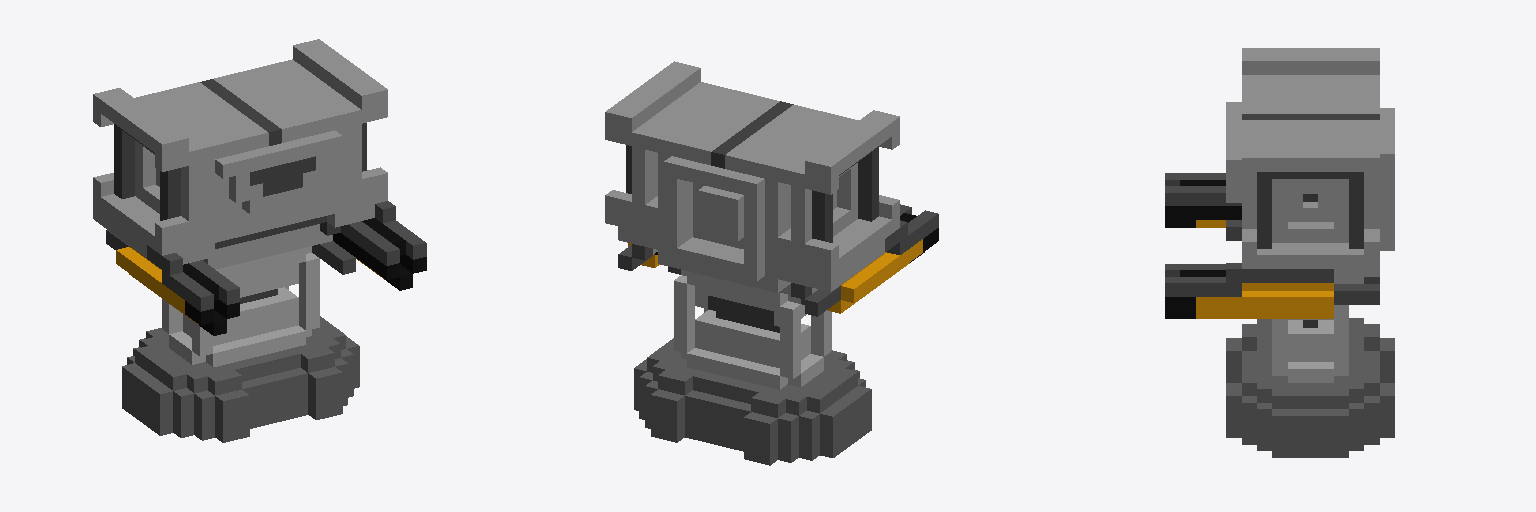
The picture shows the model from 3 angles: view 1: azimuth 30°, elevation 25°; view 2: azimuth 150°, elevation 25°; view 3: azimuth 270°, elevation 25°; orthographic projection.
Visible parts, largest first — view 1: ObjObject.001; view 2: ObjObject.001; view 3: ObjObject.001.
Boxes of the visible parts, box(x1,y1,x2,y2) form: ObjObject.001: box(93, 39, 426, 442); ObjObject.001: box(605, 61, 938, 465); ObjObject.001: box(1165, 48, 1394, 457).
Bounding box in the file's own units: 1.7 × 2.2 × 1.5.
Materials: 1 (1 with a texture image).